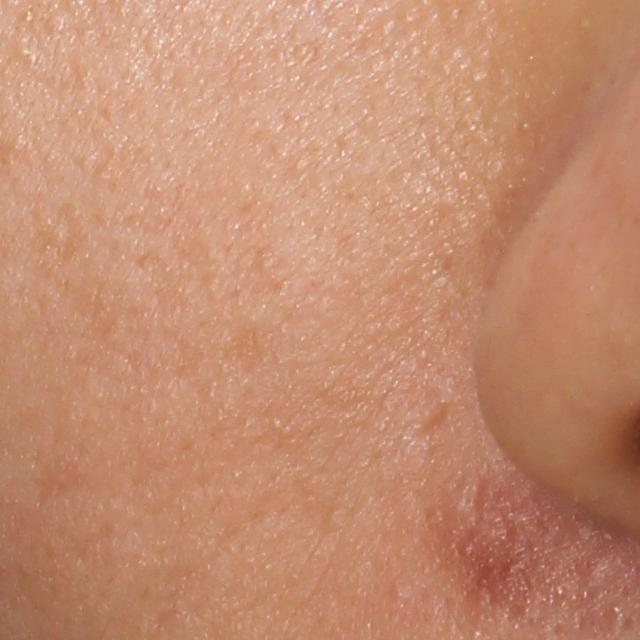atrophic_scar: (400, 404, 456, 445)
comedo: (15, 43, 34, 62)
